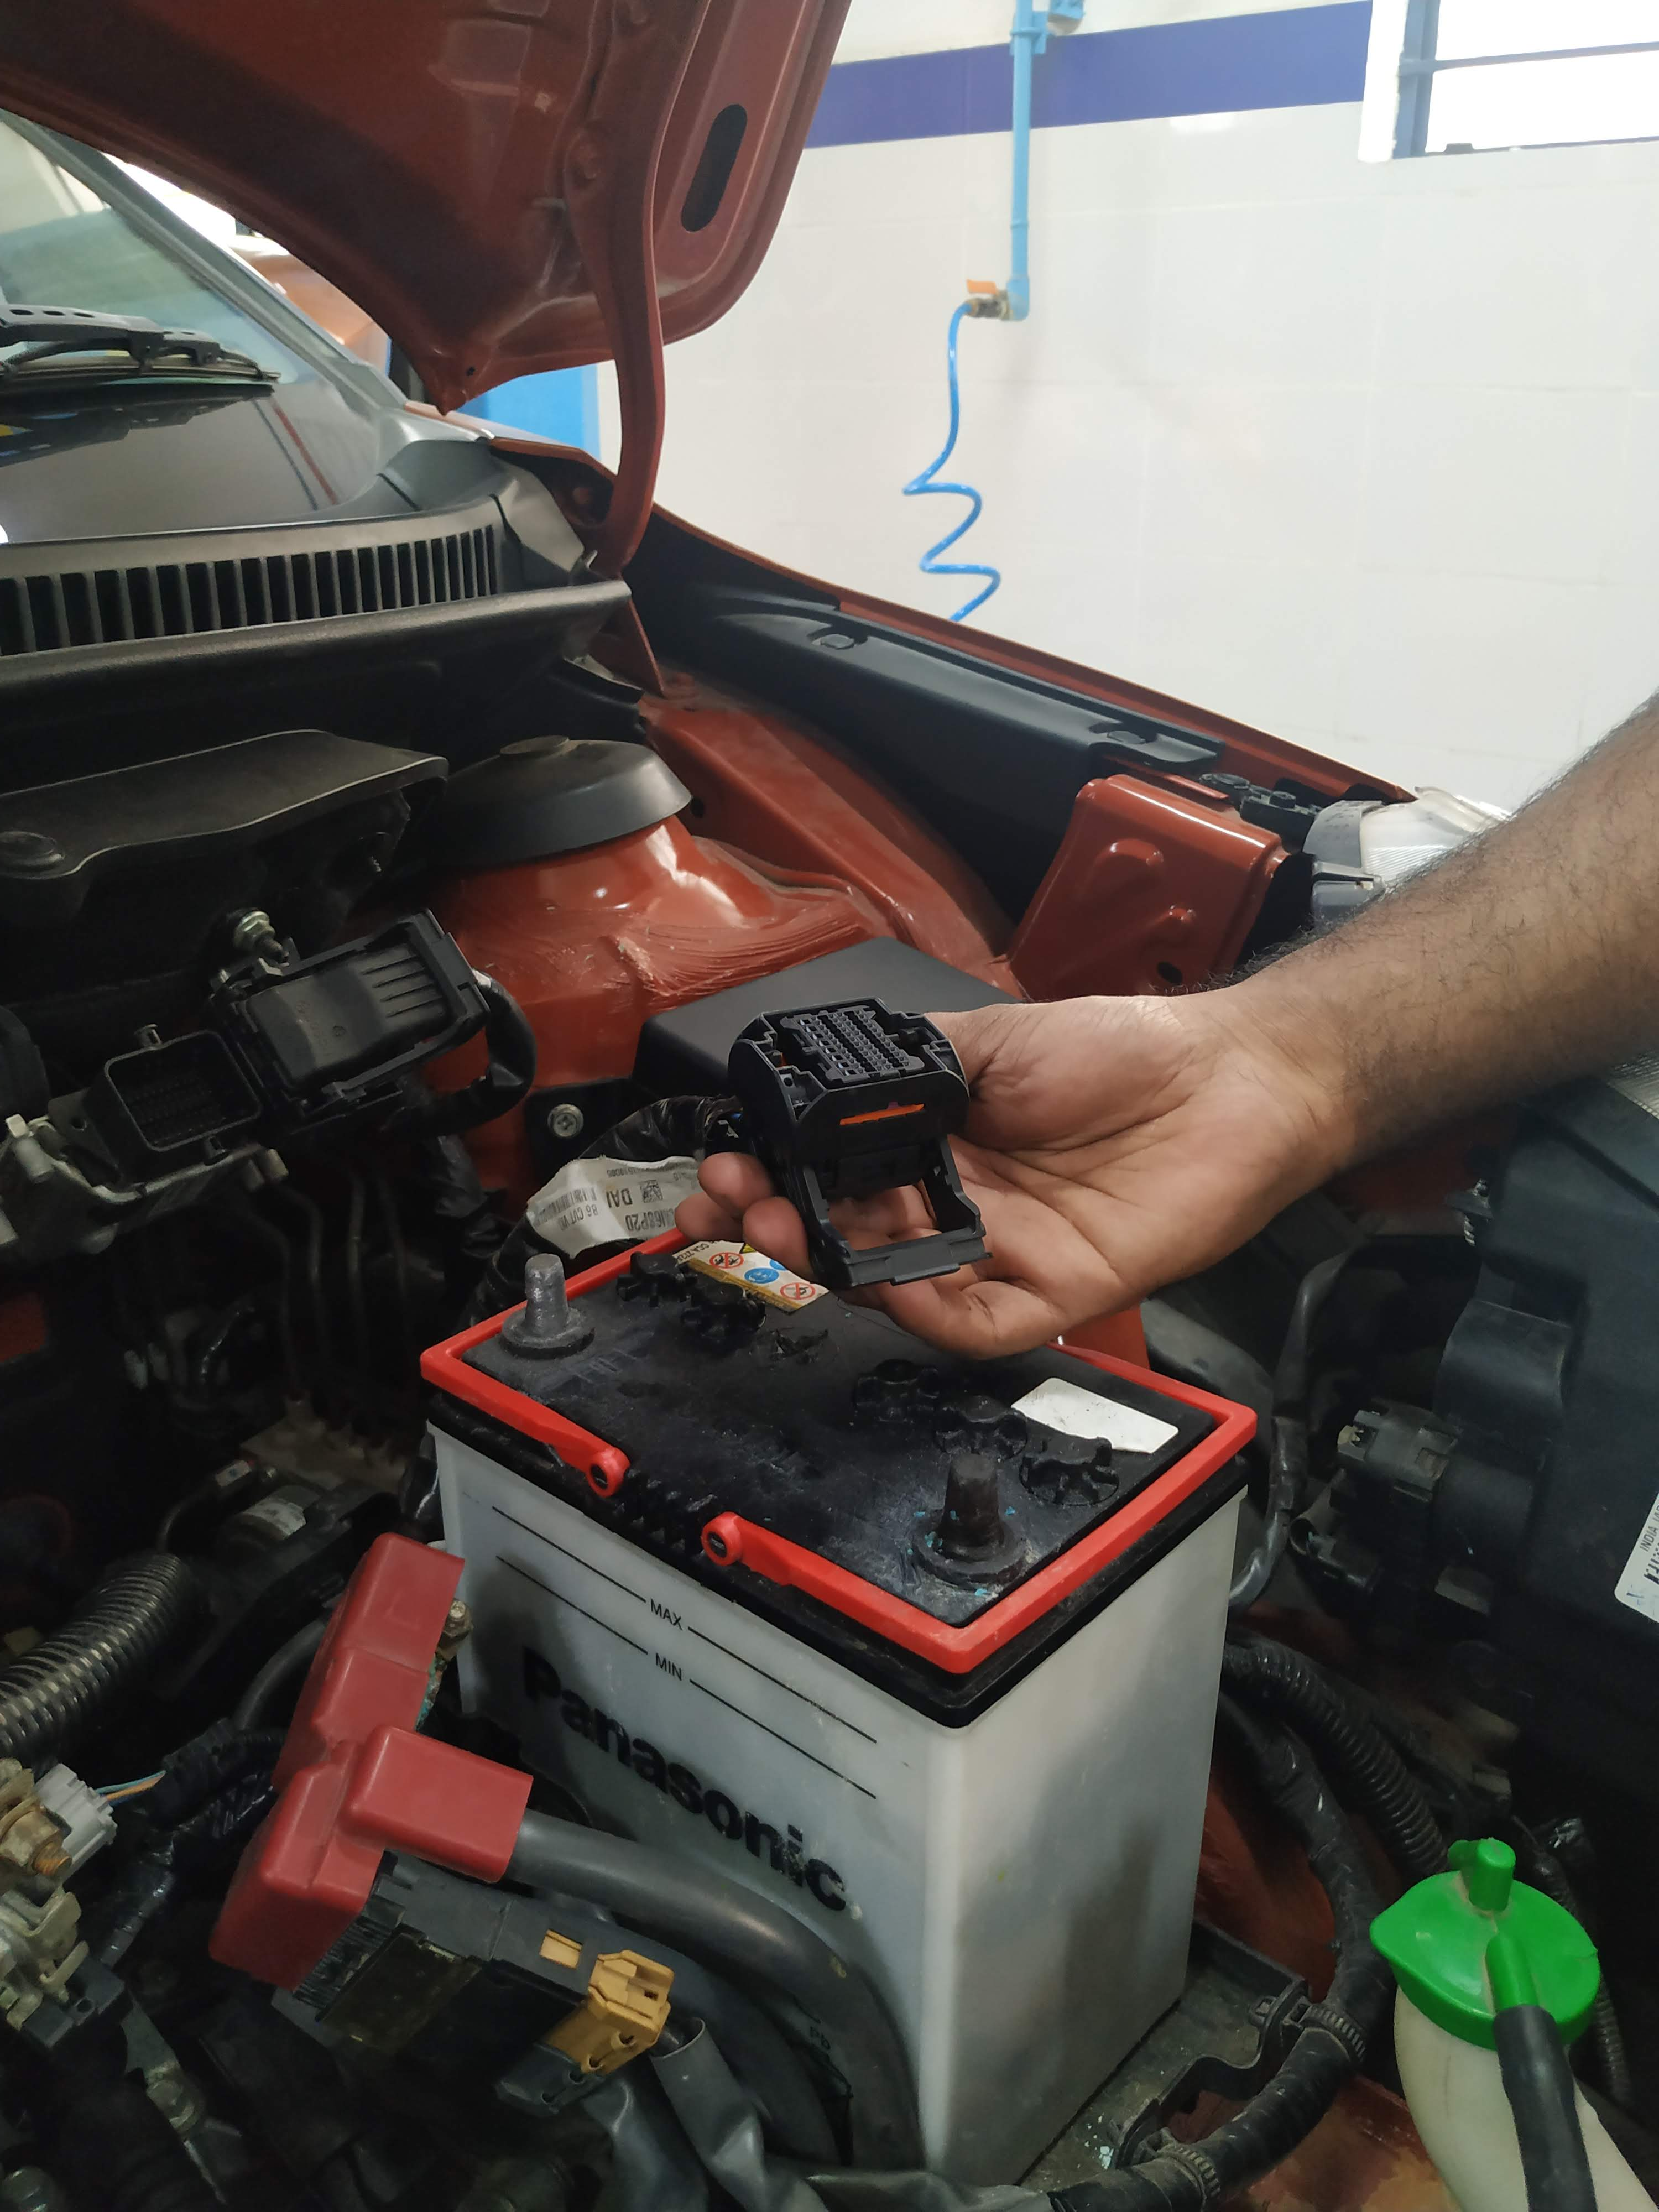connector: (721, 996, 1007, 1287)
